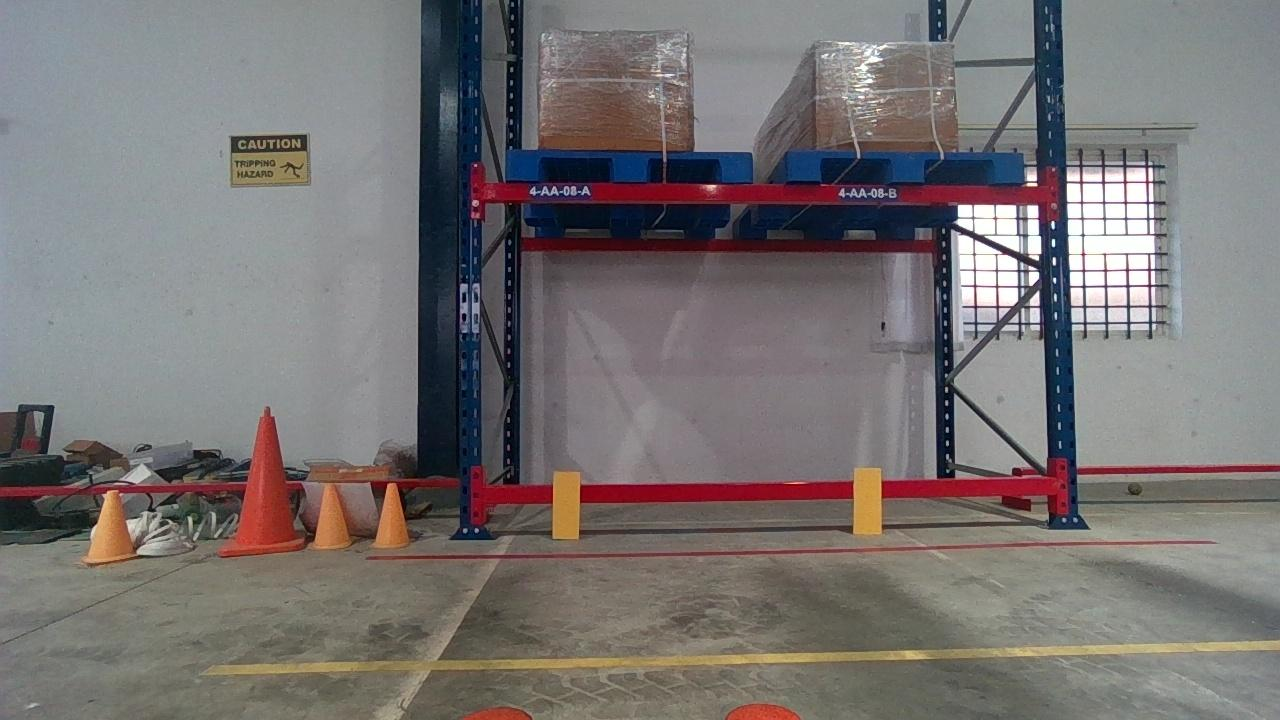h_rack: (487, 478, 1058, 502), (487, 182, 1044, 202)
orange_strip: (852, 467, 882, 533), (552, 470, 581, 537)
red_line: (363, 534, 1221, 563)
small_pallet: (506, 150, 753, 182), (785, 150, 1027, 182)
yellow_line: (198, 637, 1280, 678)
